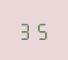five: (34, 20, 48, 40)
three: (19, 20, 33, 40)
